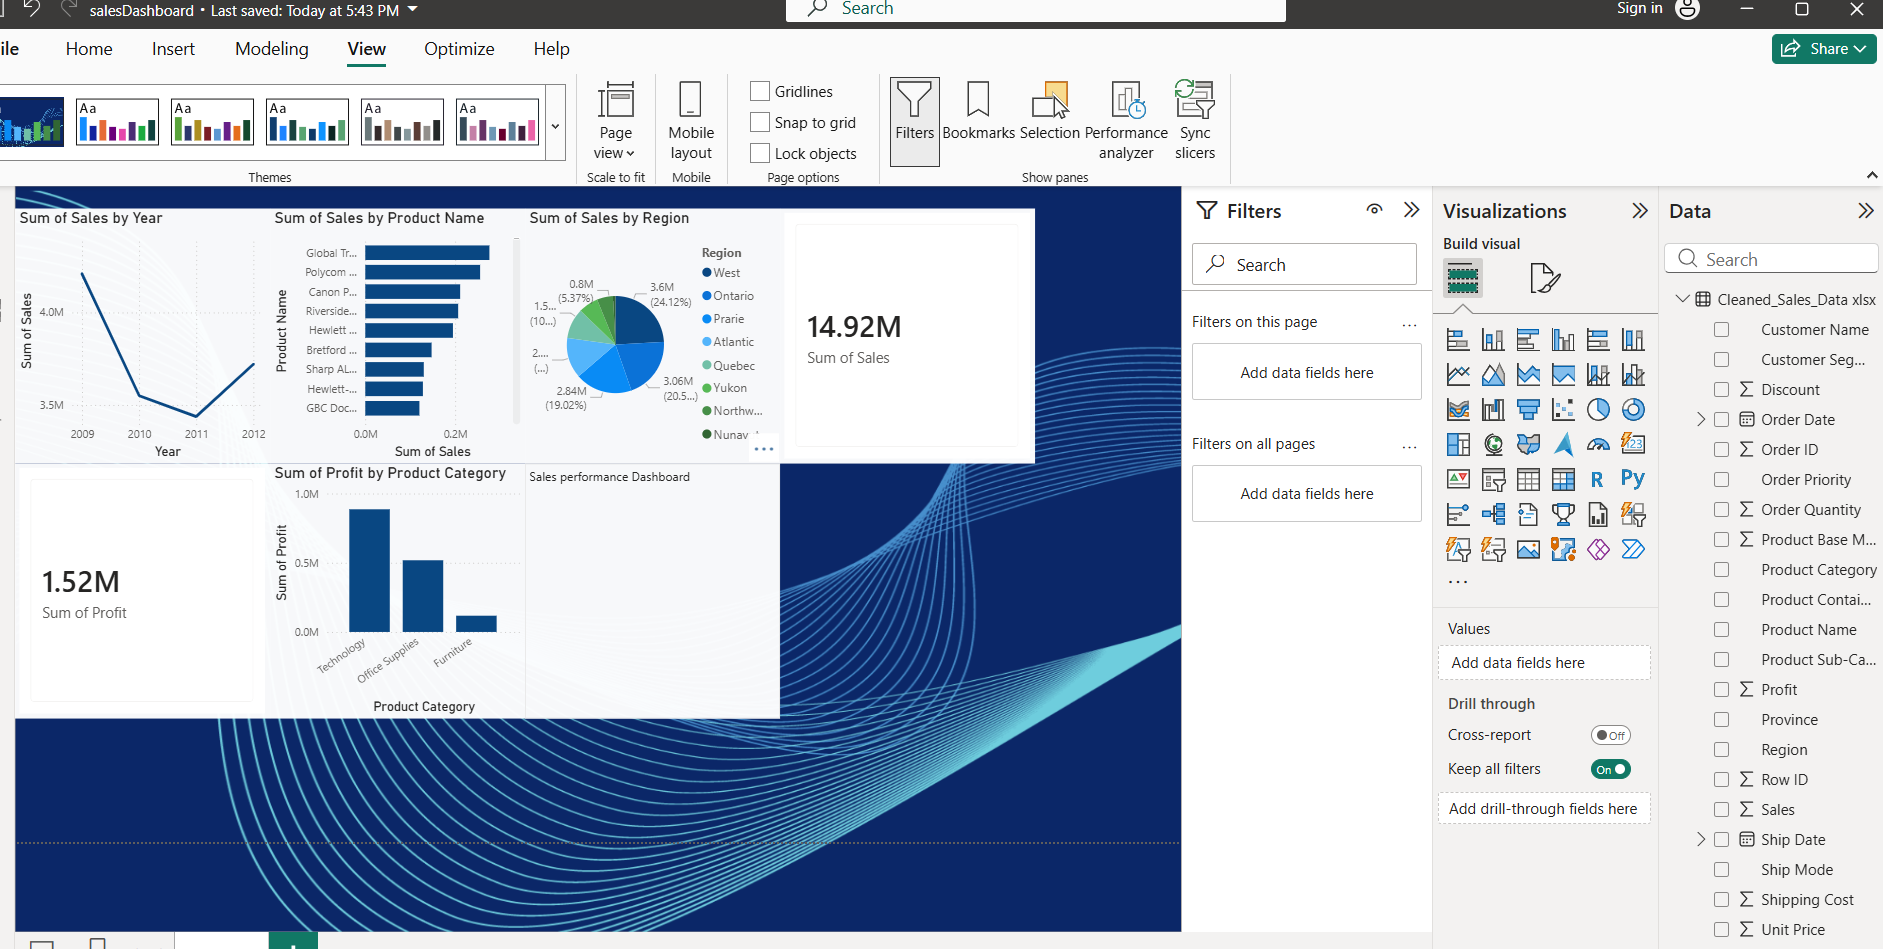

The dashboard page shown, as its layout file describes it:
{"tool":"powerbi","page":{"name":"Page 1","canvas":[1280,720],"ordinal":0},"visuals":[{"type":"lineChart","fields":{"Category":["Cleaned_Sales_Data xlsx.Order Date.Variation.Date Hierarchy.Year","Cleaned_Sales_Data xlsx.Order Date.Variation.Date Hierarchy.Quarter","Cleaned_Sales_Data xlsx.Order Date.Variation.Date Hierarchy.Month","Cleaned_Sales_Data xlsx.Order Date.Variation.Date Hierarchy.Day"],"Y":["Sum(Cleaned_Sales_Data xlsx.Sales)"]},"box":[0,24.7,279.9,279.9],"z":0},{"type":"barChart","fields":{"Category":["Cleaned_Sales_Data xlsx.Product Name"],"Y":["Sum(Cleaned_Sales_Data xlsx.Sales)"]},"box":[279.9,24.7,279.9,279.9],"z":1000},{"type":"pieChart","fields":{"Category":["Cleaned_Sales_Data xlsx.Region"],"Y":["Sum(Cleaned_Sales_Data xlsx.Sales)"]},"box":[559.9,24.7,279.9,279.9],"z":2000},{"type":"cardVisual","fields":{"Data":["Sum(Cleaned_Sales_Data xlsx.Sales)"]},"box":[839.8,24.7,279.9,279.9],"z":3000},{"type":"cardVisual","fields":{"Data":["Sum(Cleaned_Sales_Data xlsx.Profit)"]},"box":[0,304.6,279.9,279.9],"z":3001},{"type":"columnChart","fields":{"Y":["Sum(Cleaned_Sales_Data xlsx.Profit)"],"Category":["Cleaned_Sales_Data xlsx.Product Category"]},"box":[279.9,304.6,279.9,279.9],"z":3002},{"type":"textbox","box":[559.9,304.6,279.9,279.9],"z":3003}]}

Visuals, with their boxes on the page's 1280x720 design canvas (x1, y1, x2, y2). These are canvas units, not pixel positions in the 1883x949 screenshot, which may show the page scaled, cropped or inside an application window:
lineChart - Cleaned_Sales_Data xlsx.Order Date.Variation.Date Hierarchy.Year x Cleaned_Sales_Data xlsx.Order Date.Variation.Date Hierarchy.Quarter: detection(0, 25, 280, 305)
barChart - Cleaned_Sales_Data xlsx.Product Name x Sum(Cleaned_Sales_Data xlsx.Sales): detection(280, 25, 560, 305)
pieChart - Cleaned_Sales_Data xlsx.Region x Sum(Cleaned_Sales_Data xlsx.Sales): detection(560, 25, 840, 305)
cardVisual - Sum(Cleaned_Sales_Data xlsx.Sales): detection(840, 25, 1120, 305)
cardVisual - Sum(Cleaned_Sales_Data xlsx.Profit): detection(0, 305, 280, 584)
columnChart - Sum(Cleaned_Sales_Data xlsx.Profit) x Cleaned_Sales_Data xlsx.Product Category: detection(280, 305, 560, 584)
textbox: detection(560, 305, 840, 584)
